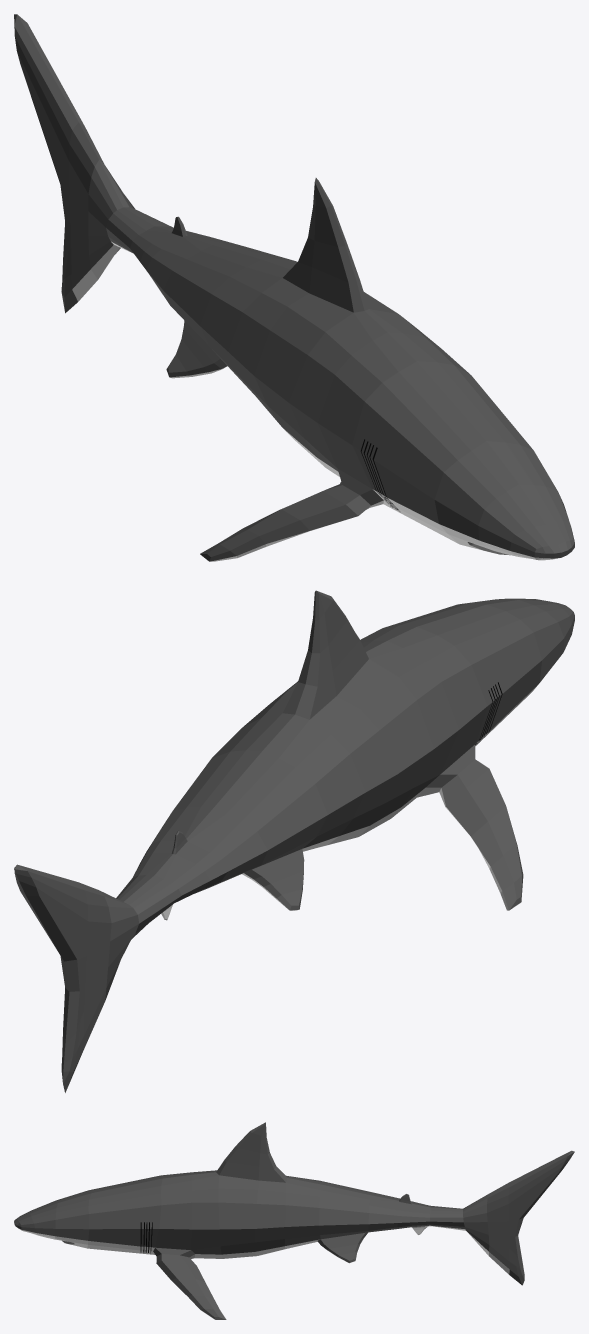
The model's file is 07sharkFinal.fbx.
3 views of the same model, one above another, from view 1: azimuth 30°, elevation 25°; view 2: azimuth 150°, elevation 25°; view 3: azimuth 270°, elevation 25° (orthographic). The views are drawn at different scales.
Visible parts, largest first — view 1: 07sharkFinal; view 2: 07sharkFinal; view 3: 07sharkFinal.
Boxes of the visible parts, x1,y1,x2,y2 form: 07sharkFinal: (14,14,574,561); 07sharkFinal: (14,590,574,1092); 07sharkFinal: (14,1122,574,1319).
Bounding box in the file's own units: 143 × 140 × 435.
